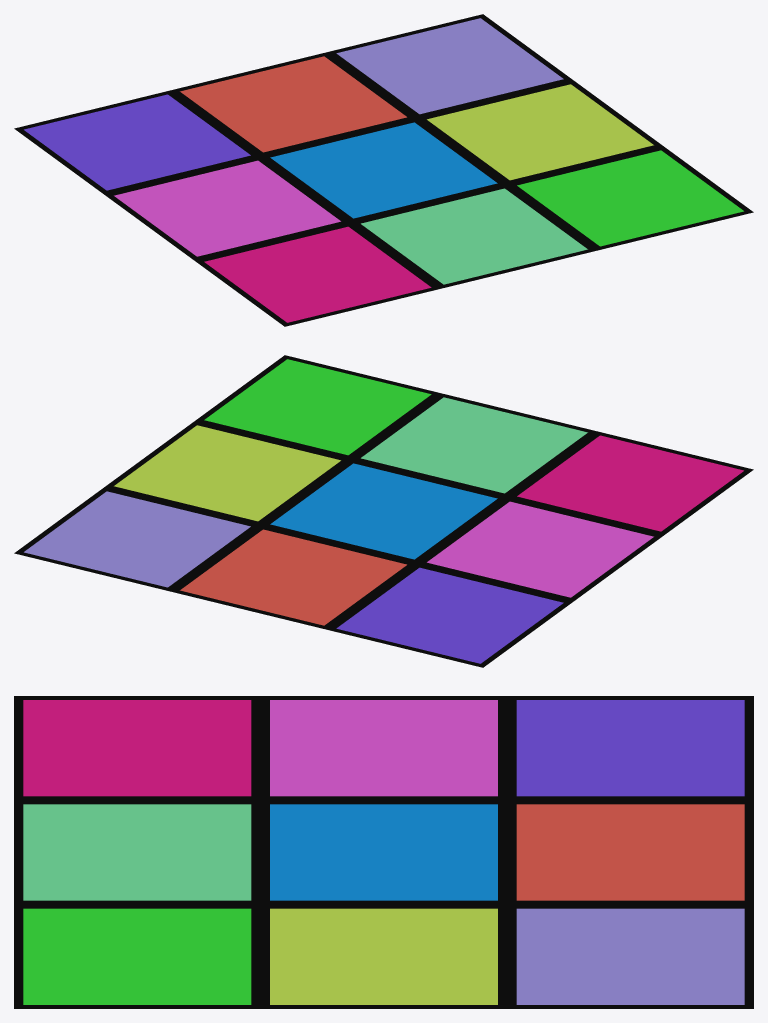
The model's file is Markings.fbx.
3 renders of one model, top to bottom at view 1: azimuth 30°, elevation 25°; view 2: azimuth 150°, elevation 25°; view 3: azimuth 270°, elevation 25°, orthographic. The views are drawn at different scales.
Parts seen in each view (by area): view 1: Plane; view 2: Plane; view 3: Plane.
Boxes of the visible parts, left/top/right/bottom form: Plane: left=14, top=14, right=753, bottom=326; Plane: left=14, top=355, right=753, bottom=667; Plane: left=14, top=696, right=753, bottom=1008.
Bounding box in the file's own units: 200 × 3.26e-05 × 200.
